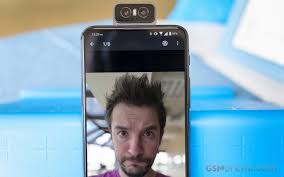asus: (77, 23, 194, 177)
